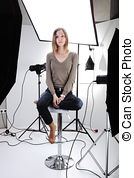face: (44, 28, 74, 53)
